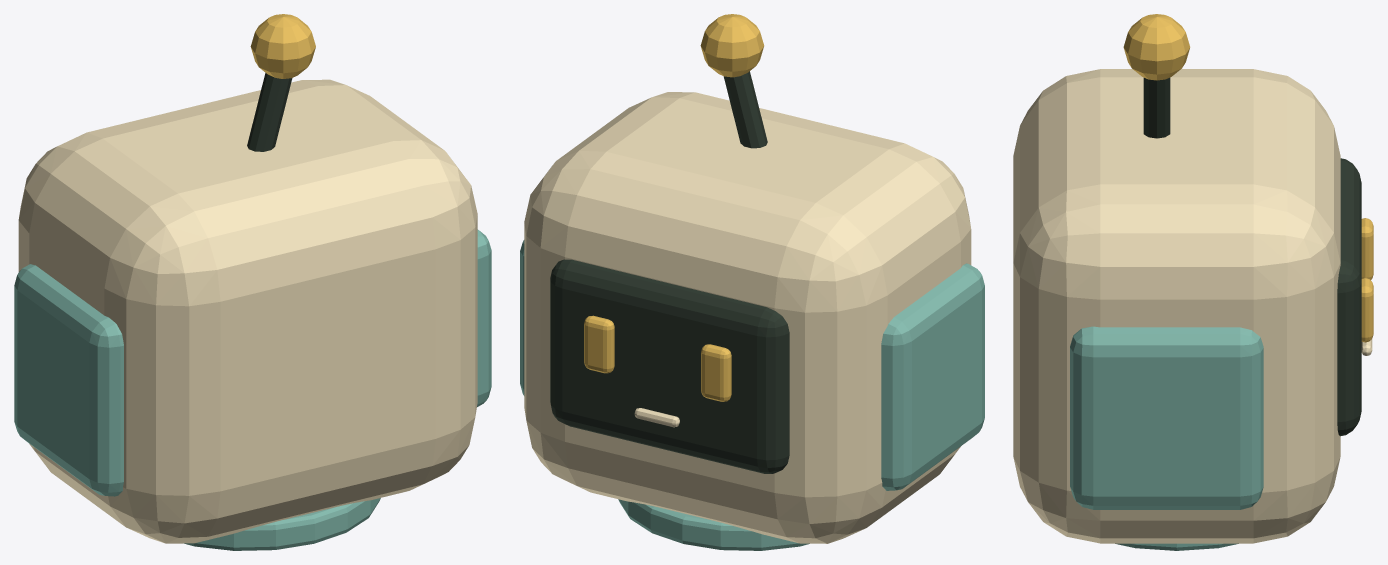
The model's file is SM_Helper.fbx.
3 views of the same model, side by side, from view 1: azimuth 30°, elevation 25°; view 2: azimuth 150°, elevation 25°; view 3: azimuth 270°, elevation 25° (orthographic). The views are drawn at different scales.
Parts seen in each view (by area): view 1: Body, Antenna; view 2: Body, Face, Antenna; view 3: Body, Face, Antenna.
Boxes of the visible parts, x1,y1,x2,y2 form: Body: (14,79,491,550); Antenna: (247,14,315,151); Body: (520,92,984,550); Face: (550,259,789,473); Antenna: (700,14,767,148); Body: (1013,69,1340,550); Face: (1337,158,1373,436); Antenna: (1123,14,1190,138).
Bounding box in the file's own units: 0.705 × 0.829 × 0.5395.
